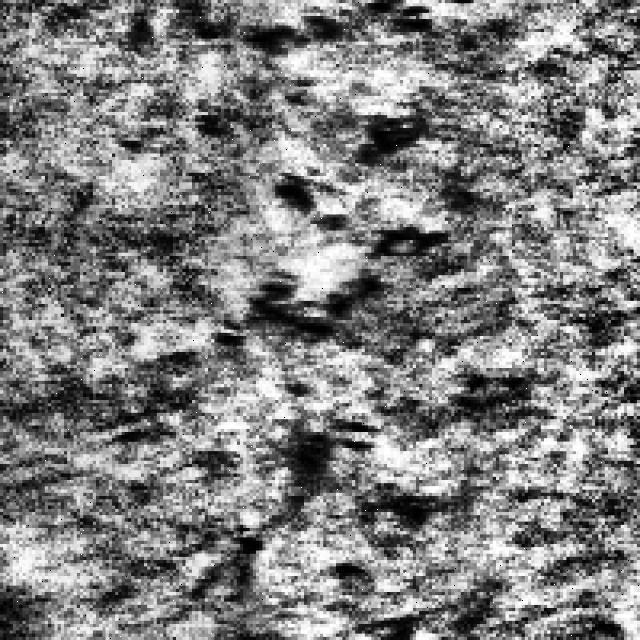Crazing: (224, 0, 435, 342), (220, 374, 436, 582)
